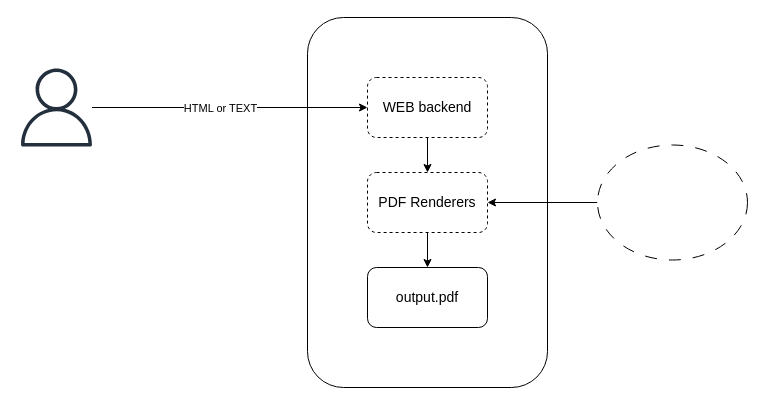
Image size: 765x405. Some labels were removed from this diagram. Here are the shapes that lost their labels. From the top down, the centre of each, then its label:
At [56,107]: "User".
At [672,202]: "wkhtmlpdf Headless Chrome WeasyPrint".
